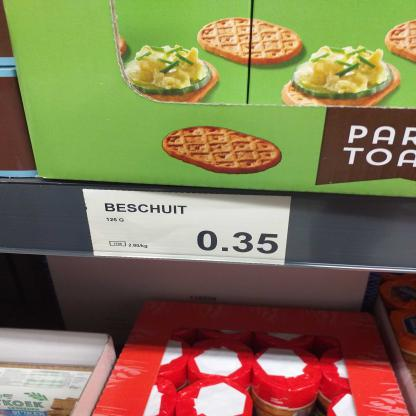prtg: (81, 189, 295, 269)
